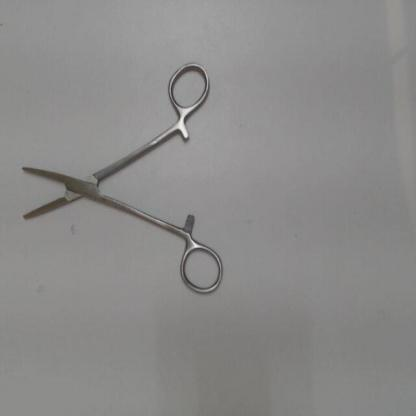Mayo Needle Holder: (12, 56, 231, 302)
